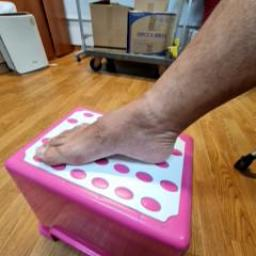Medial View -Right Foot-: (15, 66, 202, 187)
